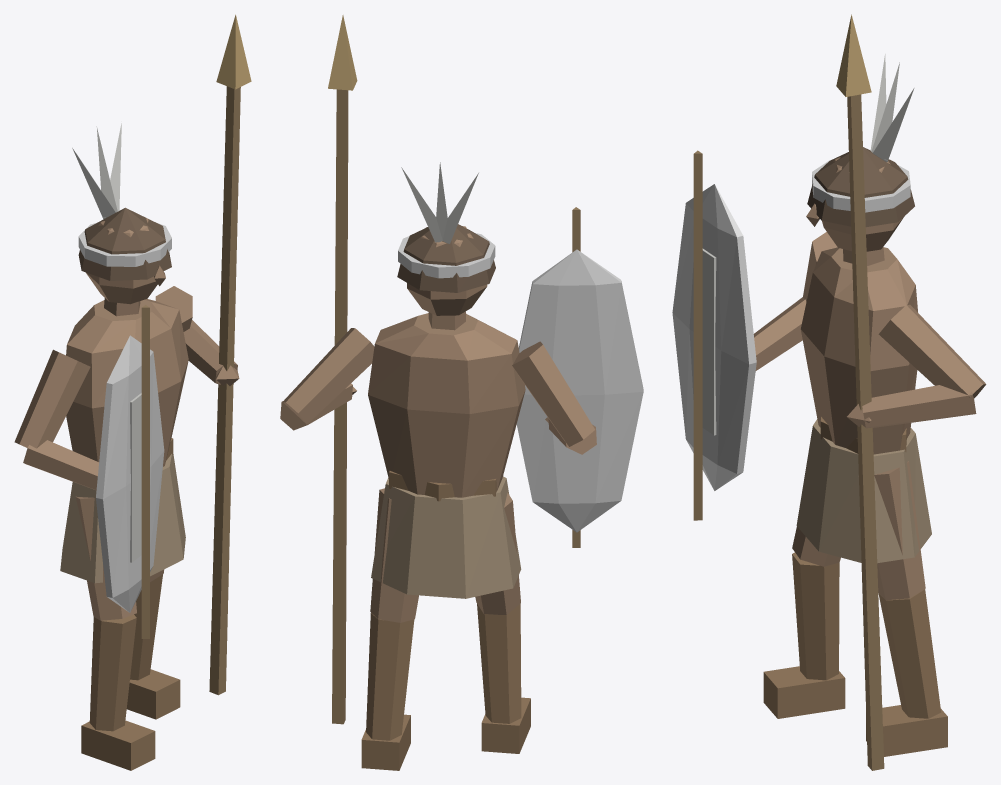
Rendered from impi.glb.
3 renders of one model, left to right at view 1: azimuth 30°, elevation 25°; view 2: azimuth 150°, elevation 25°; view 3: azimuth 270°, elevation 25°, orthographic. The views are drawn at different scales.
Parts seen in each view (by area): view 1: LOD0; view 2: LOD0; view 3: LOD0.
Part boxes in pixels (<box>): LOD0: <box>14,14,251,770</box>; LOD0: <box>280,15,643,770</box>; LOD0: <box>672,14,986,770</box>.
Size of what is drawn, in the model's own units: 0.4799 by 1.3 by 0.4813.
